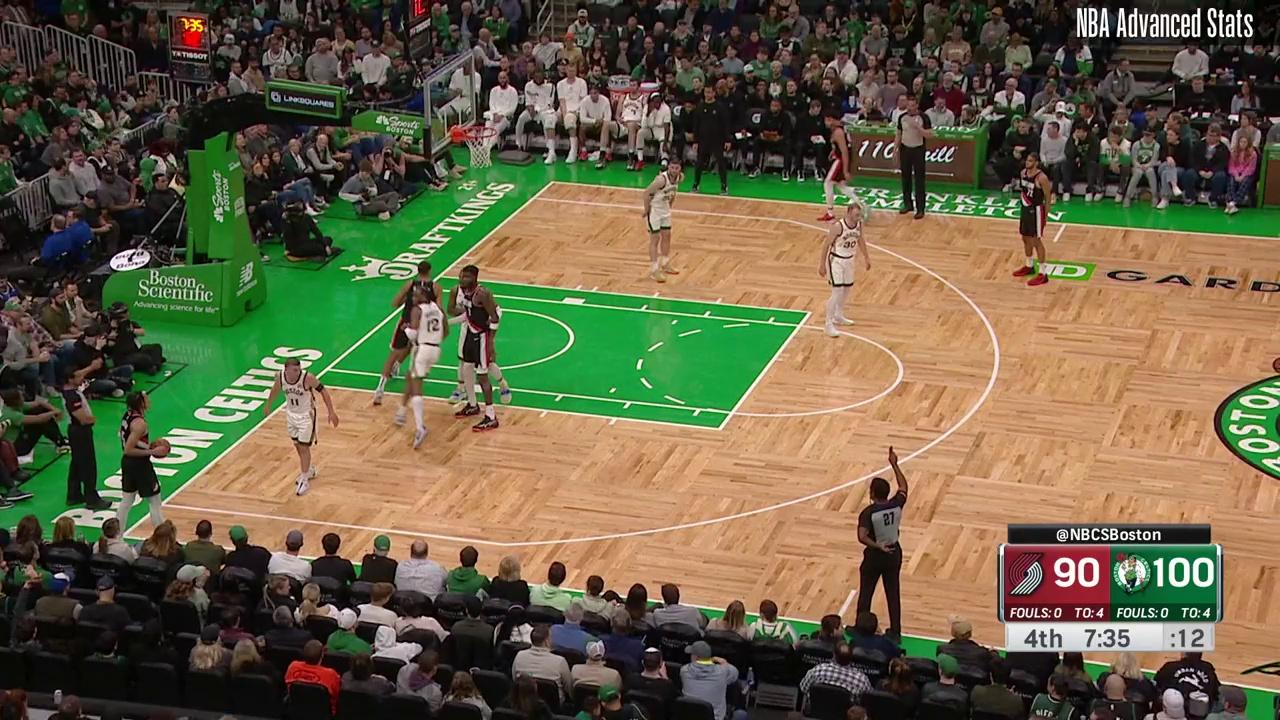3_dx: (529, 193, 541, 203)
b_dx: (548, 176, 559, 187)
free_adx: (805, 307, 816, 318)
free_asx: (713, 422, 726, 435)
free_bdx: (434, 271, 446, 282)
free_bsx: (156, 498, 170, 511)
mid_dx: (1051, 238, 1059, 246)
mid_sx: (849, 585, 860, 597)
team: (263, 359, 338, 499), (448, 270, 510, 406), (819, 203, 873, 338), (402, 288, 446, 451), (642, 156, 686, 283)
team1: (107, 384, 175, 536), (374, 261, 441, 402), (458, 267, 499, 436), (1013, 152, 1053, 287), (820, 114, 868, 220)
timer: (1081, 622, 1132, 650)
